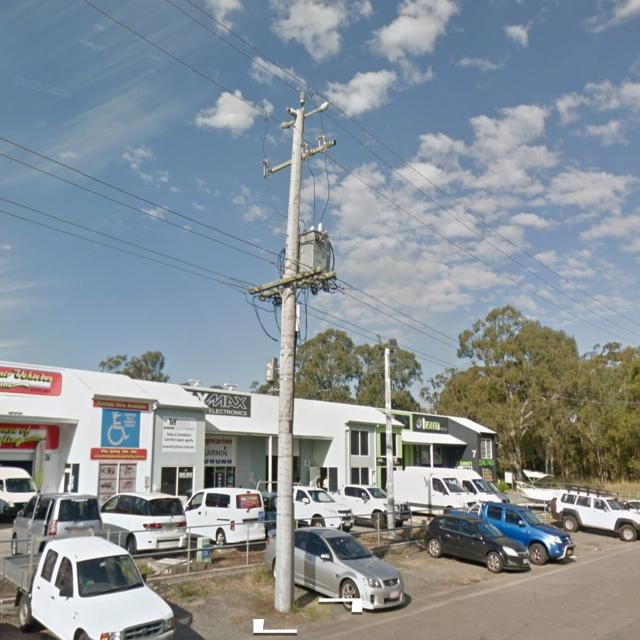HV-transmission: (262, 88, 338, 186)
LV link: (322, 278, 356, 294)
concrete-pole: (273, 108, 304, 612)
crossarm: (248, 266, 336, 300), (270, 140, 336, 174), (286, 106, 321, 127)
transformer: (294, 223, 332, 283)
